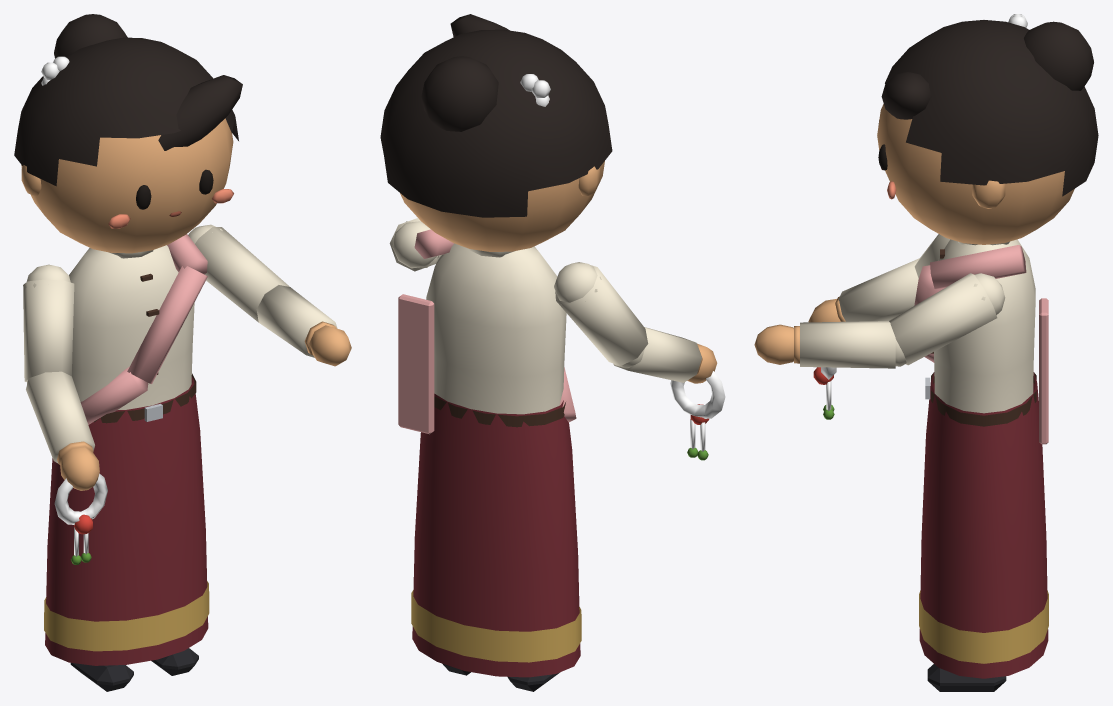
The model's file is central_malai_dancer.glb.
3 renders of one model, left to right at view 1: azimuth 30°, elevation 25°; view 2: azimuth 150°, elevation 25°; view 3: azimuth 270°, elevation 25°, orthographic. The views are drawn at different scales.
Parts seen in each view (by area): view 1: body, head, arm_R, forearm_R, forearm_L, arm_L, prop_malai, shin_R, shin_L; view 2: body, head, arm_R, forearm_R, prop_malai, arm_L; view 3: body, head, forearm_L, arm_L, forearm_R, shin_L, prop_malai, arm_R.
Boxes of the visible parts, box(x1,y1,x2,y2) form: body: box(44, 234, 209, 665); head: box(14, 14, 242, 253); arm_R: box(23, 264, 74, 383); forearm_R: box(26, 371, 99, 490); forearm_L: box(256, 285, 351, 366); arm_L: box(188, 224, 289, 322); prop_malai: box(54, 473, 107, 564); shin_R: box(70, 663, 133, 691); shin_L: box(151, 648, 198, 675); body: box(398, 229, 581, 677); head: box(380, 14, 612, 251); arm_R: box(554, 262, 648, 368); forearm_R: box(613, 327, 717, 383); prop_malai: box(670, 371, 725, 460); arm_L: box(389, 218, 441, 271); body: box(914, 239, 1048, 678); head: box(877, 14, 1098, 244); forearm_L: box(754, 321, 905, 368); arm_L: box(889, 273, 1005, 366); forearm_R: box(808, 258, 919, 322); shin_L: box(927, 664, 1006, 691); prop_malai: box(813, 367, 836, 419); arm_R: box(914, 234, 949, 278).
Size of the model in its own units: 0.673 by 1.47 by 0.7098.
